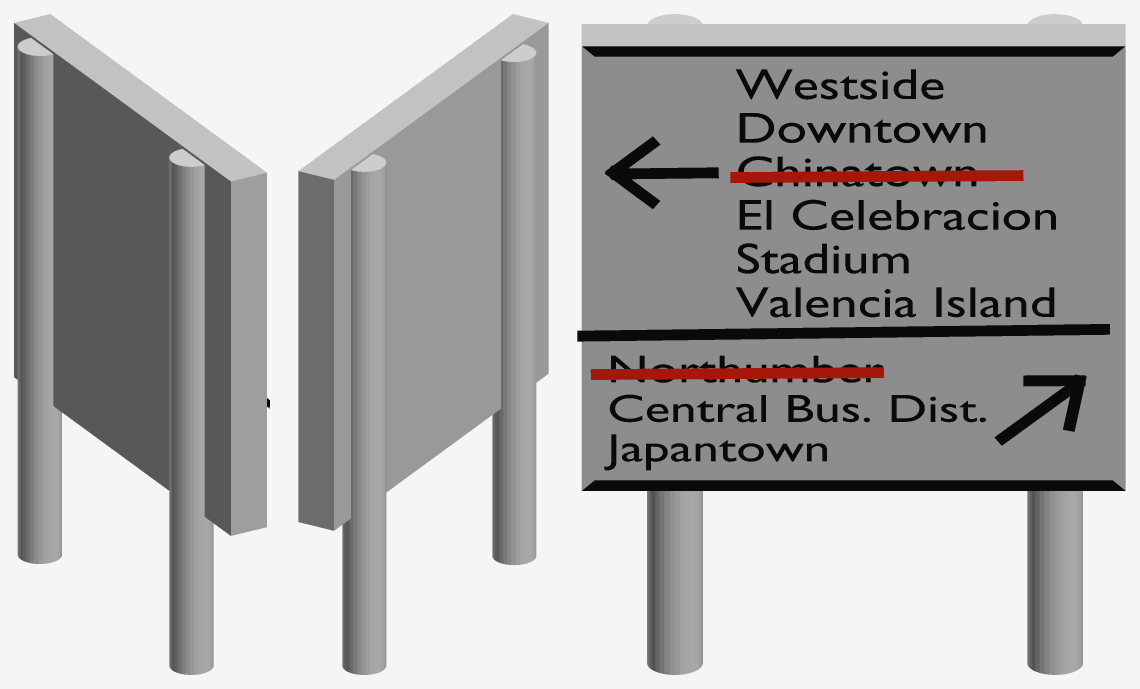
Rendered from UK_junction_sign_38.fbx.
3 views of the same model, side by side, from view 1: azimuth 30°, elevation 25°; view 2: azimuth 150°, elevation 25°; view 3: azimuth 270°, elevation 25° (orthographic). The views are drawn at different scales.
Parts seen in each view (by area): view 1: Cube.001, Cylinder.001, Cylinder; view 2: Cube.001, Cylinder, Cylinder.001; view 3: Cube.001, Text.001, Cylinder.001, Cylinder, Text.003, Plane.012, Plane.002, Plane.001, Plane.011, Plane.004.
Boxes of the visible parts, x1,y1,x2,y2 form: Cube.001: (14, 14, 266, 535); Cylinder.001: (17, 38, 61, 563); Cylinder: (169, 149, 213, 674); Cube.001: (298, 14, 548, 530); Cylinder: (492, 44, 536, 565); Cylinder.001: (342, 154, 386, 674); Cube.001: (581, 24, 1125, 490); Text.001: (736, 69, 1055, 317); Cylinder.001: (1027, 14, 1082, 674); Cylinder: (647, 14, 702, 674); Text.003: (604, 355, 985, 470); Plane.012: (577, 324, 1109, 341); Plane.002: (730, 170, 1023, 182); Plane.001: (590, 367, 883, 379); Plane.011: (994, 382, 1077, 445); Plane.004: (621, 167, 718, 179).
Bounding box in the file's own units: 6.12 × 50.59 × 39.25.
